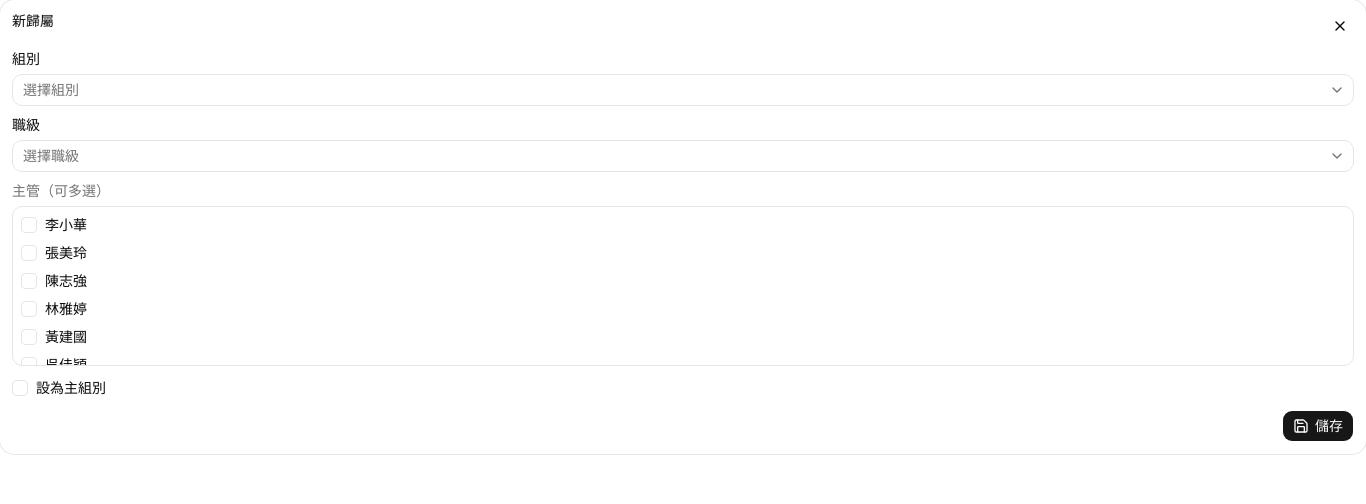
Test case: AssignmentEditor 歸屬編輯器 › 新歸屬未選組別／職級時儲存顯示驗證錯誤
Click the button "儲存".
click(1318, 426)  # box [1282, 410, 1354, 442]
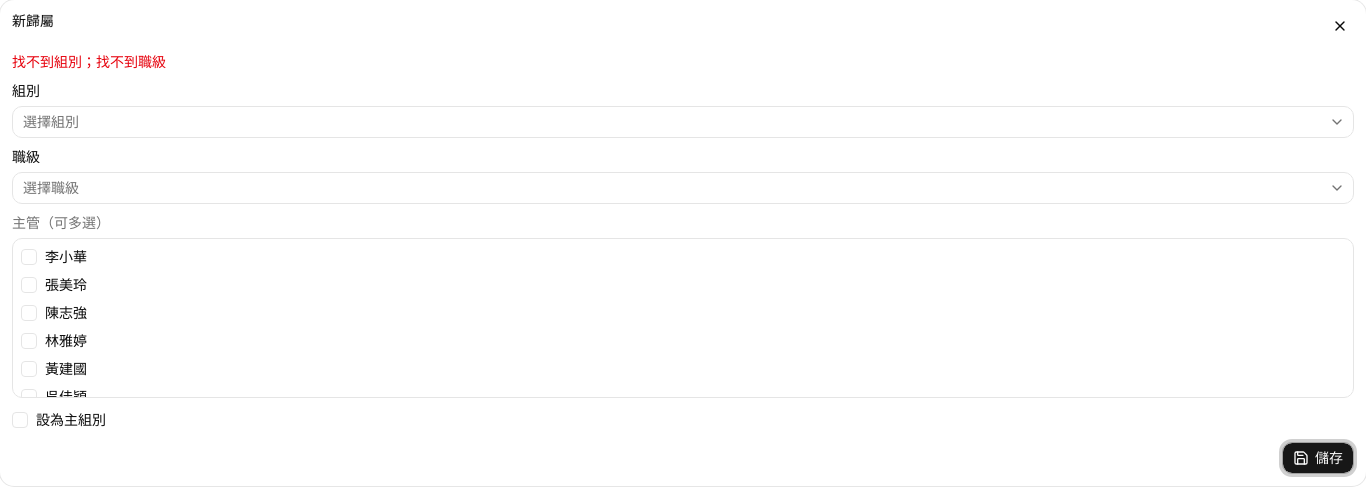
Now the text "找不到組別；找不到職級" is shown, box [12, 54, 166, 70]
